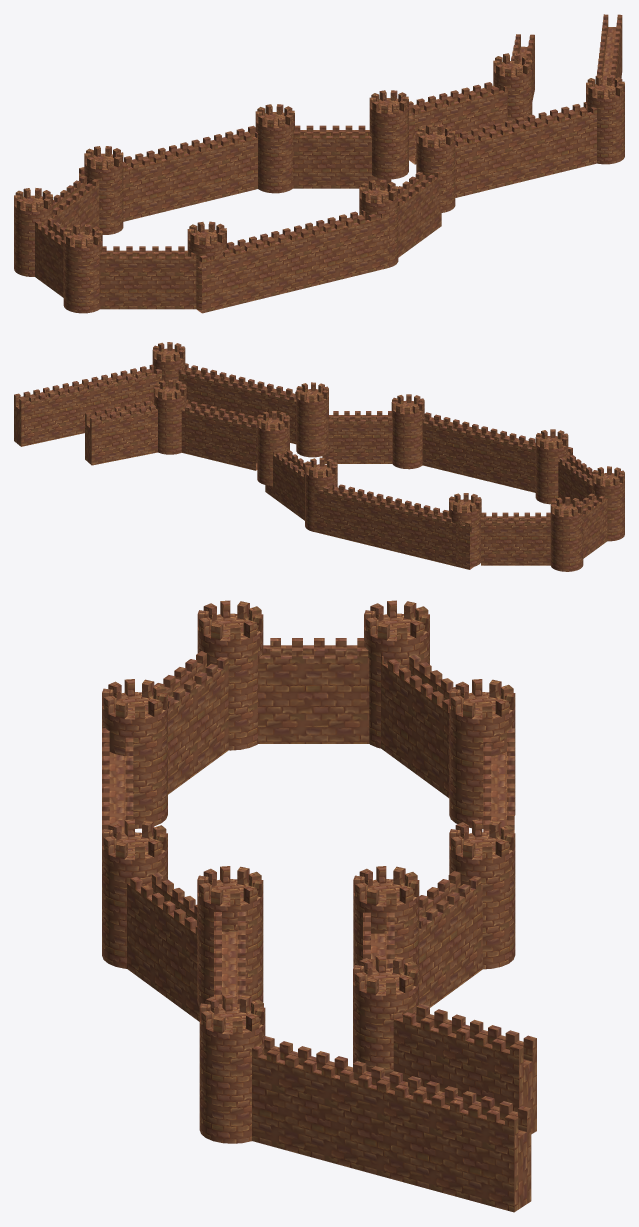
Rendered from Cerca.fbx.
3 views of the same model, one above another, from view 1: azimuth 30°, elevation 25°; view 2: azimuth 150°, elevation 25°; view 3: azimuth 270°, elevation 25° (orthographic). The views are drawn at different scales.
Parts seen in each view (by area): view 1: polySurface21_3, polySurface21, polySurface21_2, polySurface20, polySurface20_1, polySurface20_4, polySurface42_1, polySurface42_8, polySurface42_2, polySurface20_3, polySurface42, polySurface42_7 (+9 smaller); view 2: polySurface21_2, polySurface21_1, polySurface21_3, polySurface21, polySurface20_4, polySurface20_5, polySurface20_2, polySurface20_3, polySurface42_6, polySurface42_9, polySurface42_5, polySurface42_4 (+9 smaller); view 3: polySurface21_1, polySurface20_6, polySurface20_5, polySurface42, polySurface20_3, polySurface20_2, polySurface20_1, polySurface42_7, polySurface20, polySurface42_3, polySurface42_2, polySurface42_8 (+9 smaller).
Part boxes in pixels (left/top/right/bottom): polySurface21_3: left=197, top=210, right=387, bottom=313; polySurface21: left=455, top=102, right=596, bottom=197; polySurface21_2: left=79, top=125, right=257, bottom=221; polySurface20: left=99, top=246, right=196, bottom=309; polySurface20_1: left=292, top=125, right=391, bottom=188; polySurface20_4: left=409, top=82, right=507, bottom=164; polySurface42_1: left=369, top=90, right=408, bottom=179; polySurface42_8: left=63, top=224, right=102, bottom=313; polySurface42_2: left=255, top=104, right=294, bottom=193; polySurface20_3: left=398, top=172, right=441, bottom=257; polySurface42: left=586, top=75, right=624, bottom=164; polySurface42_7: left=84, top=146, right=123, bottom=234; polySurface21_2: left=314, top=483, right=473, bottom=569; polySurface21_1: left=14, top=364, right=161, bottom=446; polySurface21_3: left=422, top=412, right=572, bottom=492; polySurface21: left=178, top=363, right=296, bottom=444; polySurface20_4: left=181, top=400, right=257, bottom=470; polySurface20_5: left=85, top=400, right=157, bottom=465; polySurface20_2: left=481, top=512, right=550, bottom=565; polySurface20_3: left=322, top=411, right=392, bottom=463; polySurface42_6: left=550, top=497, right=583, bottom=571; polySurface42_9: left=296, top=382, right=328, bottom=457; polySurface42_5: left=391, top=394, right=424, bottom=469; polySurface42_4: left=153, top=379, right=186, bottom=454; polySurface21_1: left=252, top=1036, right=531, bottom=1212; polySurface20_6: left=258, top=638, right=369, bottom=743; polySurface20_5: left=393, top=1004, right=536, bottom=1134; polySurface42: left=199, top=993, right=265, bottom=1143; polySurface20_3: left=127, top=872, right=199, bottom=1021; polySurface20_2: left=381, top=655, right=455, bottom=797; polySurface20_1: left=419, top=871, right=482, bottom=1007; polySurface42_7: left=449, top=679, right=515, bottom=828; polySurface20: left=154, top=651, right=228, bottom=794; polySurface42_3: left=102, top=679, right=167, bottom=828; polySurface42_2: left=449, top=819, right=515, bottom=969; polySurface42_8: left=197, top=600, right=263, bottom=750.
Size of the model in its own units: 7776 by 1087 by 2723.
Materials: 3 (3 with a texture image).
